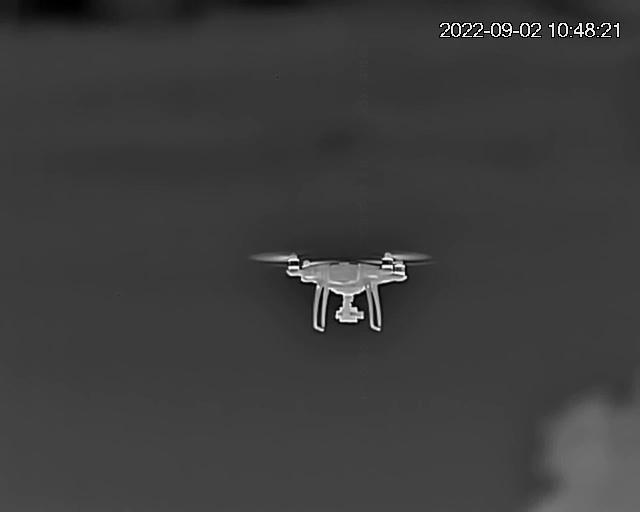DJI-Phantom: (248, 239, 438, 334)
